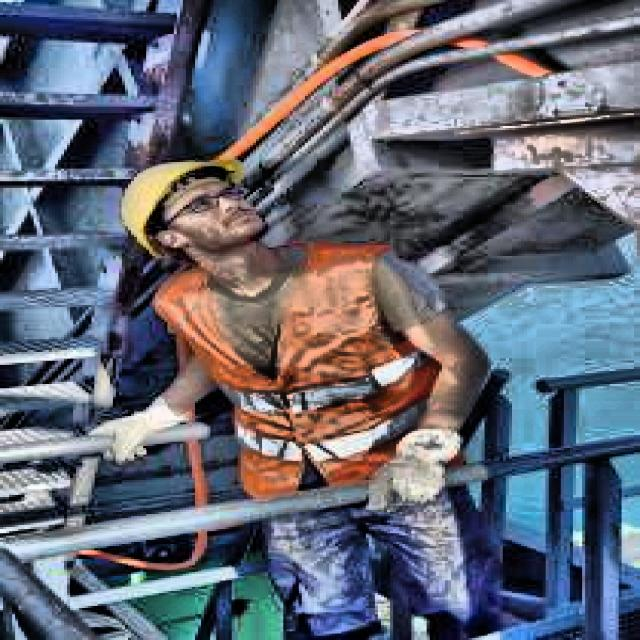helmet: (100, 152, 286, 278)
